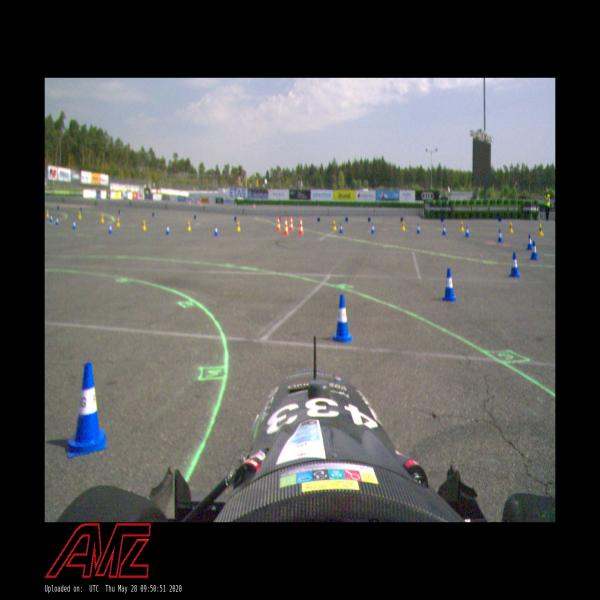blue_cone: (67, 363, 107, 458), (332, 293, 353, 343), (442, 268, 457, 302), (509, 252, 521, 278), (530, 241, 539, 261), (526, 234, 533, 250), (497, 229, 503, 243), (464, 225, 470, 238), (442, 225, 446, 236), (416, 223, 420, 234), (214, 225, 218, 236), (166, 224, 170, 235), (72, 219, 76, 230), (371, 223, 375, 233), (339, 224, 343, 234), (109, 224, 112, 234), (56, 216, 59, 225), (50, 214, 53, 222)
large_orange_cone: (298, 217, 304, 235), (283, 217, 289, 235), (288, 215, 294, 231), (276, 216, 281, 231)
yellow_cone: (538, 224, 544, 236), (508, 222, 514, 232), (236, 221, 241, 232), (460, 220, 464, 231), (188, 220, 192, 231), (142, 220, 146, 231), (401, 221, 405, 231), (333, 221, 337, 231), (78, 211, 82, 220), (117, 217, 120, 227), (101, 214, 104, 223), (46, 209, 49, 218)
